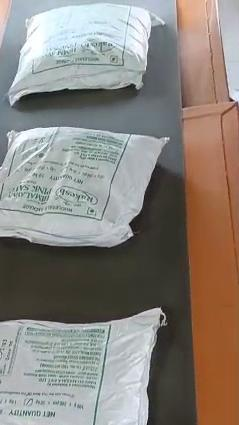box: (0, 127, 168, 247), (0, 308, 163, 425), (8, 3, 163, 105)
